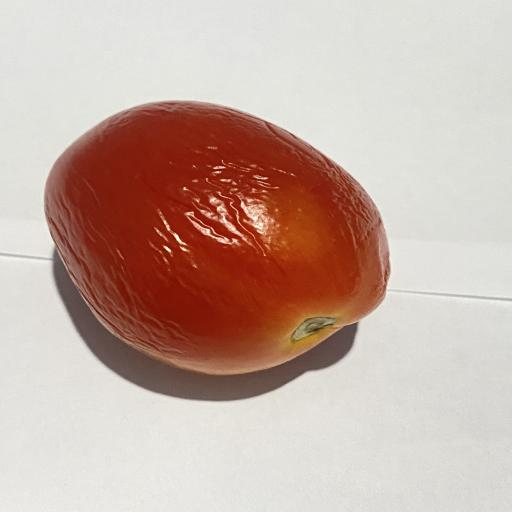spoiled: (44, 101, 389, 375)
